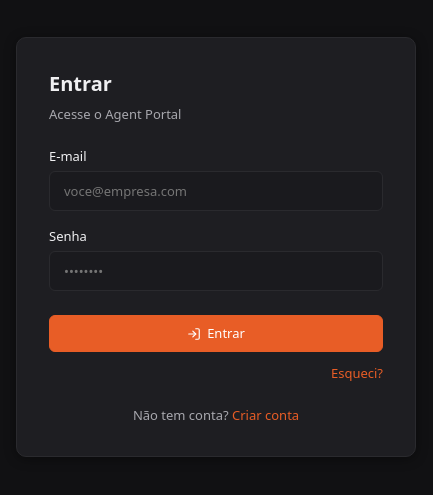
LoginPage › shows validation error for empty email
The image size is (433, 495).
Click the button "Entrar" at (216, 334), box [49,315,383,352]
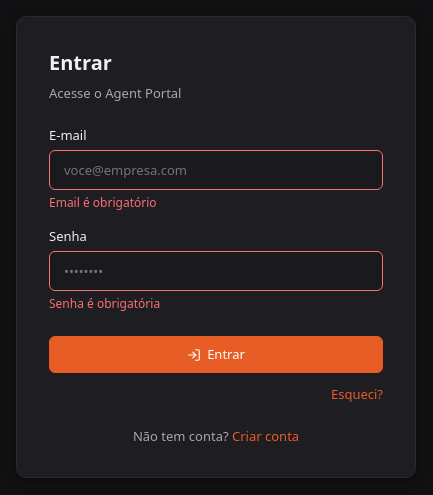
Check: the text "Email é obrigatório" is shown, box [49,194,156,211]
